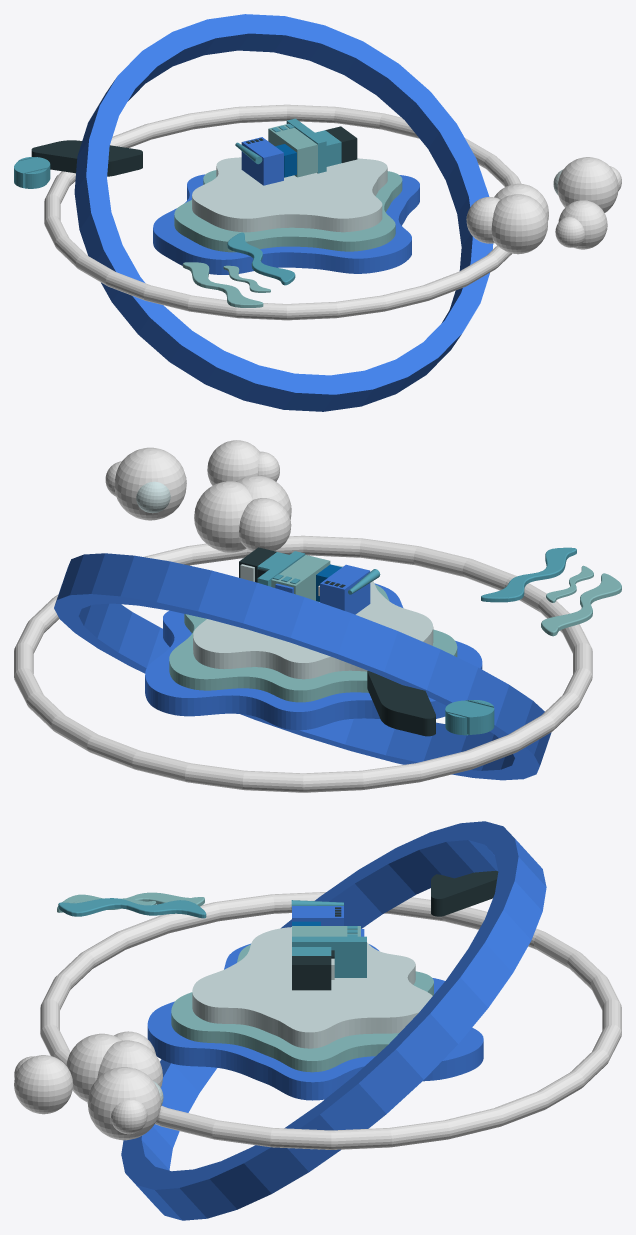
File: enter.gltf
3 renders of one model, top to bottom at view 1: azimuth 30°, elevation 25°; view 2: azimuth 150°, elevation 25°; view 3: azimuth 270°, elevation 25°, orthographic. The views are drawn at different scales.
Visible parts, largest first — view 1: Cylinder.009, Torus, BezierCircle.008, BezierCircle.006, BezierCircle.007, Sphere.026, Sphere.021, Curve.004, Cube.001, Sphere.024, Cube.005, BezierCurve.006 (+7 smaller); view 2: Cylinder.009, Torus, BezierCircle.006, BezierCircle.008, BezierCircle.007, Sphere.021, Sphere.025, Curve.004, Sphere.027, Sphere.024, Cube.001, Curve.005 (+9 smaller); view 3: Cylinder.009, Torus, BezierCircle.008, BezierCircle.006, BezierCircle.007, Sphere.021, Sphere.024, Curve.004, Sphere.026, Cube.018, BezierCurve.007, Sphere.025 (+5 smaller).
Part boxes in pixels (x1,y1,x2,y2): Cylinder.009: (74, 14, 493, 411); Torus: (44, 104, 521, 320); BezierCircle.008: (192, 157, 387, 232); BezierCircle.006: (153, 174, 419, 274); BezierCircle.007: (174, 170, 402, 252); Sphere.026: (491, 194, 547, 254); Sphere.021: (557, 157, 618, 212); Curve.004: (31, 140, 142, 176); Cube.001: (241, 137, 283, 185); Sphere.024: (558, 200, 607, 249); Cube.005: (268, 123, 317, 177); BezierCurve.006: (182, 262, 263, 307); Cylinder.009: (54, 553, 551, 780); Torus: (14, 535, 592, 792); BezierCircle.006: (145, 583, 482, 730); BezierCircle.008: (193, 565, 433, 679); BezierCircle.007: (169, 584, 457, 702); Sphere.021: (114, 447, 186, 520); Sphere.025: (194, 481, 252, 552); Curve.004: (367, 671, 435, 736); Sphere.027: (239, 498, 291, 551); Sphere.024: (207, 440, 259, 485); Cube.001: (320, 564, 370, 614); Curve.005: (445, 700, 494, 735); Cylinder.009: (121, 821, 546, 1220); Torus: (40, 892, 621, 1149); BezierCircle.008: (192, 927, 432, 1048); BezierCircle.006: (147, 943, 483, 1100); BezierCircle.007: (171, 944, 433, 1072); Sphere.021: (87, 1067, 160, 1140); Sphere.024: (14, 1055, 73, 1114); Curve.004: (431, 870, 498, 916); Sphere.026: (66, 1033, 122, 1102); Cube.018: (292, 936, 366, 977); BezierCurve.007: (58, 898, 206, 918); Sphere.025: (97, 1040, 162, 1087).
Size of the model in its own units: 0.4532 by 0.2567 by 0.4304.
